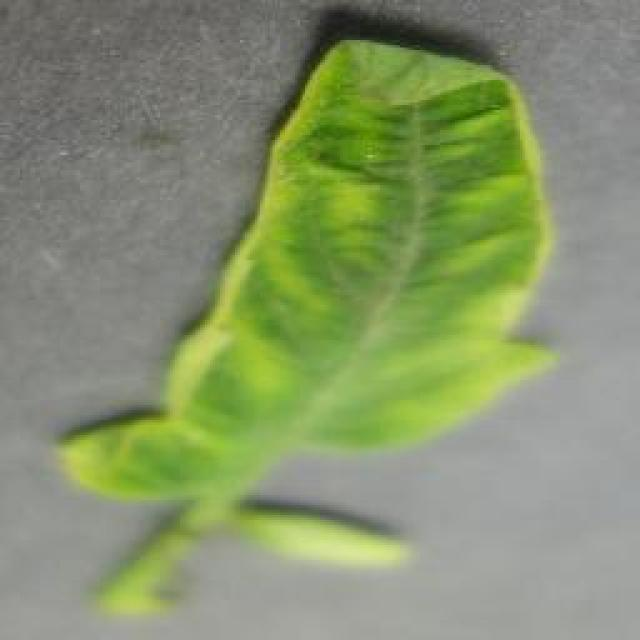Tomato yellow virus leaf: (54, 40, 554, 497)
